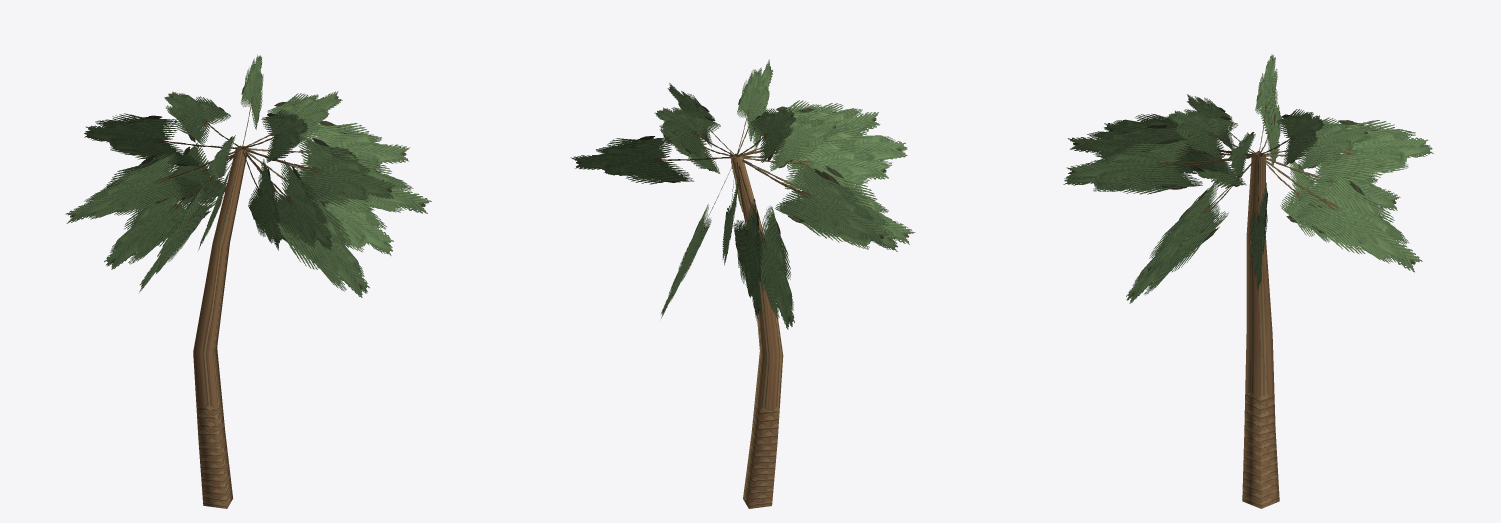
The model's file is dune-date-palm-mobile.glb.
3 renders of one model, left to right at view 1: azimuth 30°, elevation 25°; view 2: azimuth 150°, elevation 25°; view 3: azimuth 270°, elevation 25°, orthographic. The views are drawn at different scales.
Parts seen in each view (by area): view 1: Dune date palm mobile v3 runtime; view 2: Dune date palm mobile v3 runtime; view 3: Dune date palm mobile v3 runtime.
Boxes of the visible parts, left/top/right/bottom form: Dune date palm mobile v3 runtime: left=65, top=54, right=431, bottom=508; Dune date palm mobile v3 runtime: left=570, top=59, right=915, bottom=508; Dune date palm mobile v3 runtime: left=1063, top=54, right=1433, bottom=508.
Bounding box in the file's own units: 10.23 × 10.11 × 9.69.
Materials: 1 (1 with a texture image).
